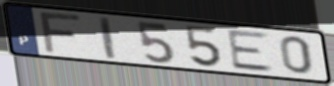0: (277, 34, 318, 77)
5: (135, 19, 178, 65), (182, 24, 224, 68)
E: (225, 29, 276, 74)
F: (37, 11, 84, 55)
I: (96, 15, 119, 61)
